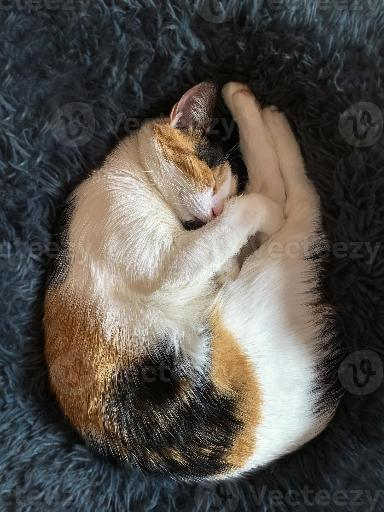cat_sleeping: (44, 82, 340, 480)
